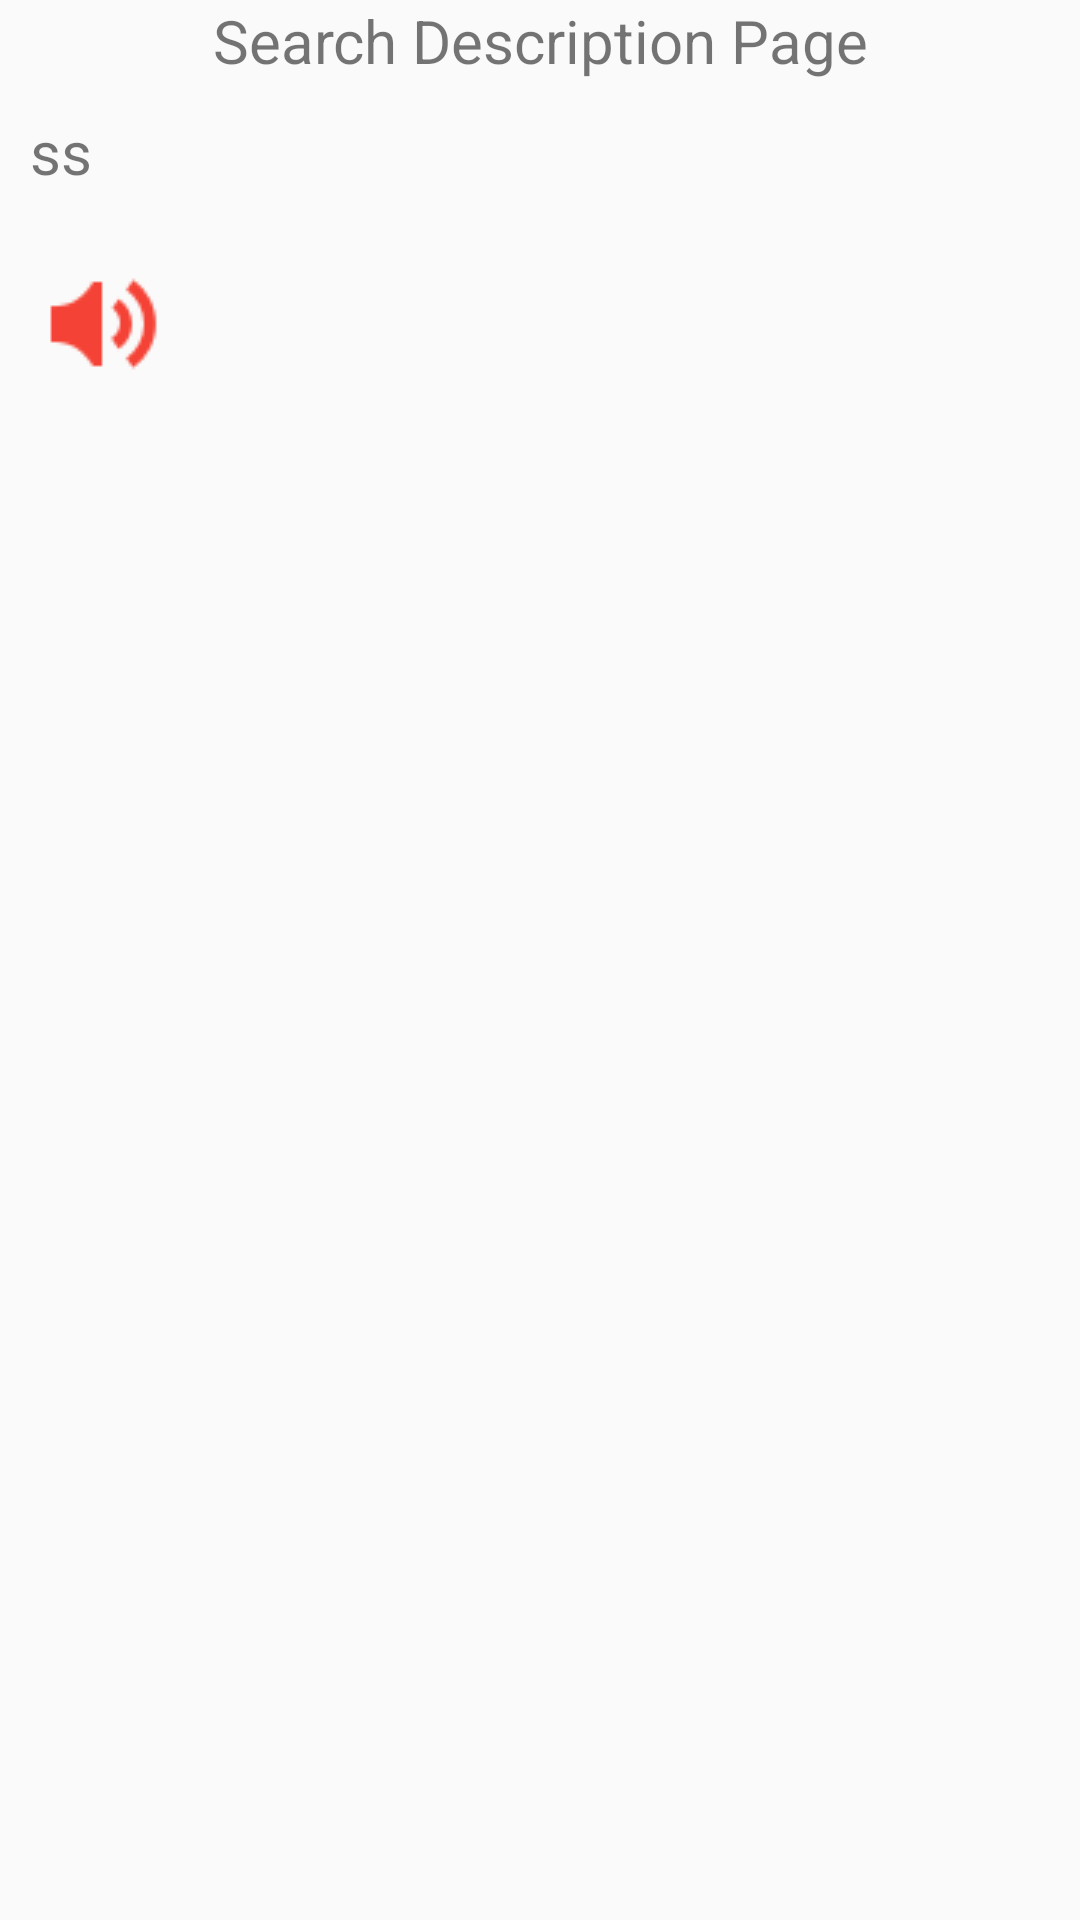

Locate icon controls on the screen. Image size 1080 x 1920, boxes as (x1, y1, x2, y2).
pronounce play: (50, 279, 157, 369)
